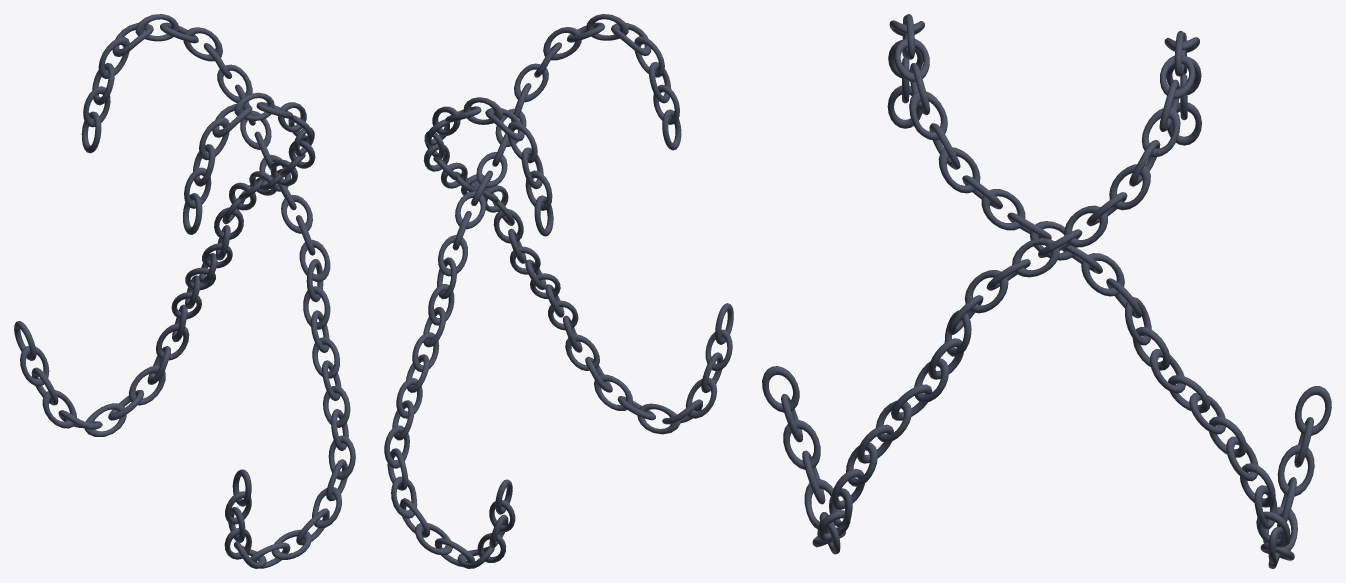
File: maya2sketchfab.fbx
3 views of the same model, side by side, from view 1: azimuth 30°, elevation 25°; view 2: azimuth 150°, elevation 25°; view 3: azimuth 270°, elevation 25° (orthographic). The views are drawn at different scales.
Parts seen in each view (by area): view 1: polySurface129, polySurface133, polySurface156, polySurface155; view 2: polySurface133, polySurface129, polySurface155, polySurface156; view 3: polySurface129, polySurface133, polySurface155, polySurface156.
Boxes of the visible parts, x1,y1,x2,y2 form: polySurface129: (224,183,355,568); polySurface133: (14,171,269,436); polySurface156: (81,14,290,191); polySurface155: (183,92,315,234); polySurface133: (384,173,515,568); polySurface129: (467,174,733,434); polySurface155: (476,14,681,194); polySurface156: (423,97,553,236); polySurface129: (762,238,1052,554); polySurface133: (1046,221,1331,568); polySurface155: (887,14,1051,251); polySurface156: (1038,31,1201,268).
Size of the model in its own units: 13.09 by 32.86 by 31.05.
